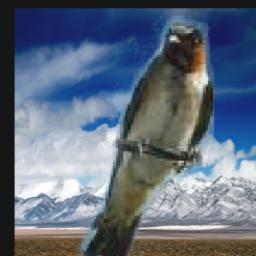Swallow: (76, 17, 214, 256)
